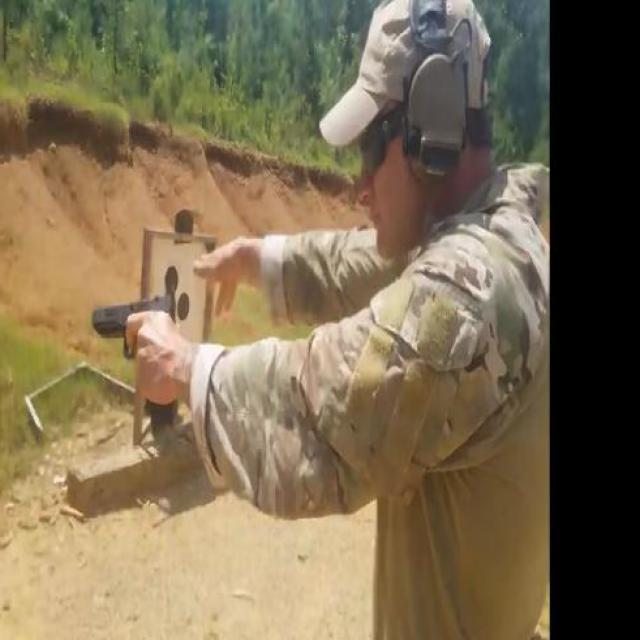Gun: (90, 284, 184, 424)
